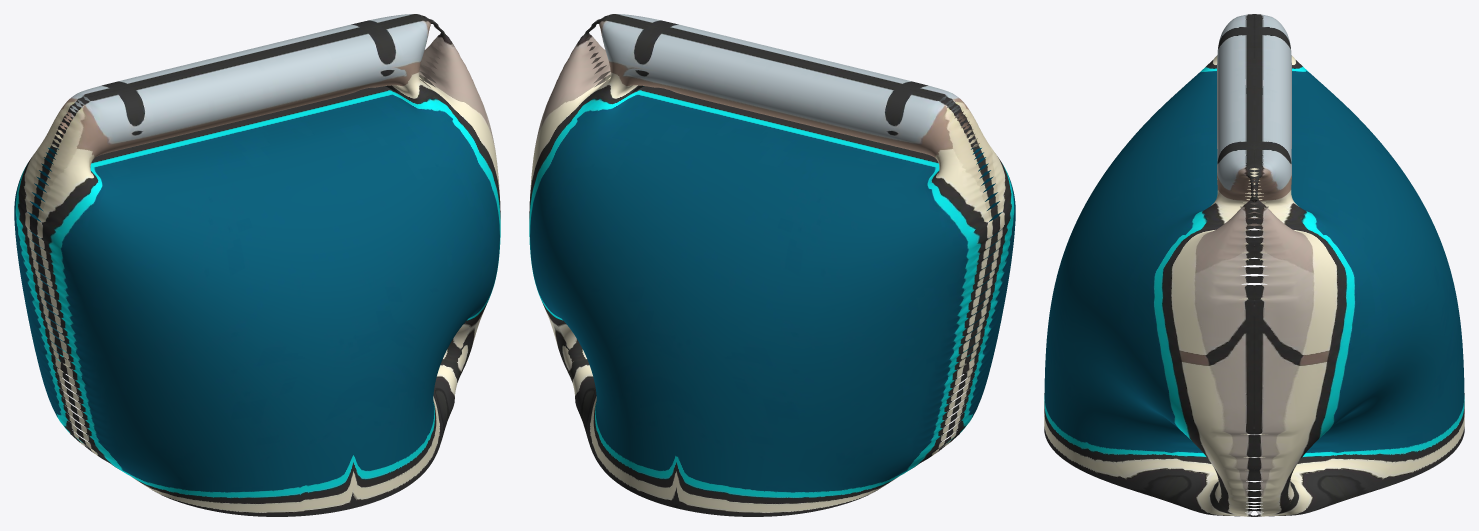
File: wall_monitor.glb
3 renders of one model, left to right at view 1: azimuth 30°, elevation 25°; view 2: azimuth 150°, elevation 25°; view 3: azimuth 270°, elevation 25°, orthographic. The views are drawn at different scales.
Parts seen in each view (by area): view 1: wall_monitor; view 2: wall_monitor; view 3: wall_monitor.
Boxes of the visible parts, x1,y1,x2,y2 form: wall_monitor: (14, 14, 500, 516); wall_monitor: (529, 14, 1015, 516); wall_monitor: (1044, 14, 1464, 516).
Bounding box in the file's own units: 0.989 × 0.7853 × 0.8714.
Materials: 1 (1 with a texture image).
